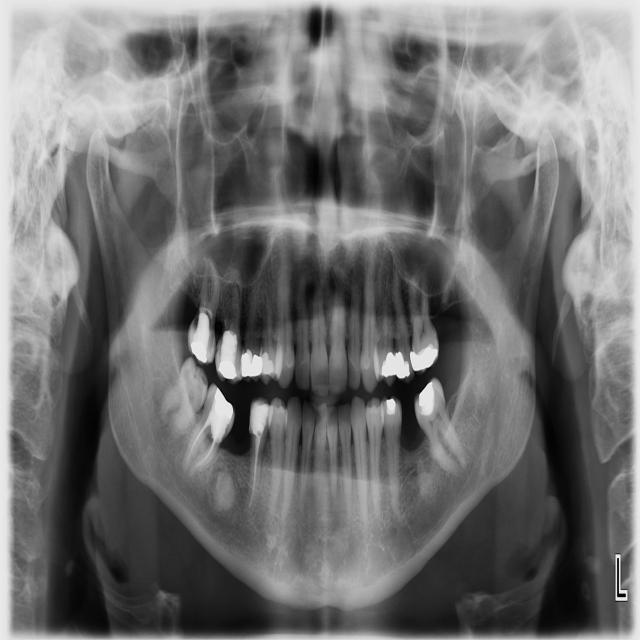mandibula: (86, 128, 559, 612)
